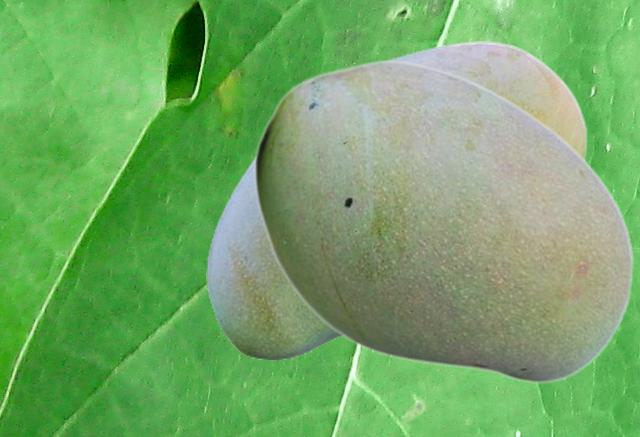green_mango: (253, 58, 633, 383), (206, 41, 587, 358)
